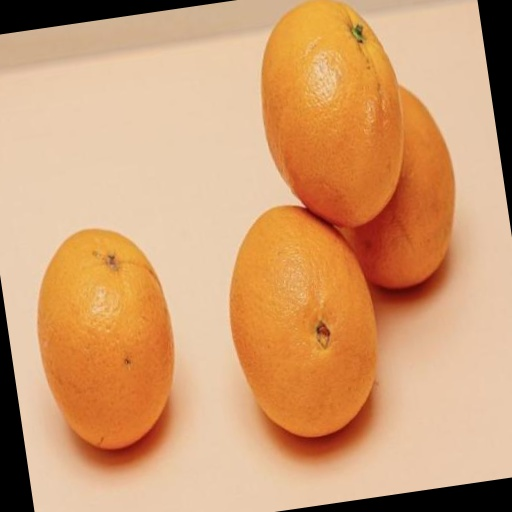fruit: (0, 174, 375, 512), (263, 163, 474, 507), (406, 67, 505, 341), (341, 49, 462, 240)
